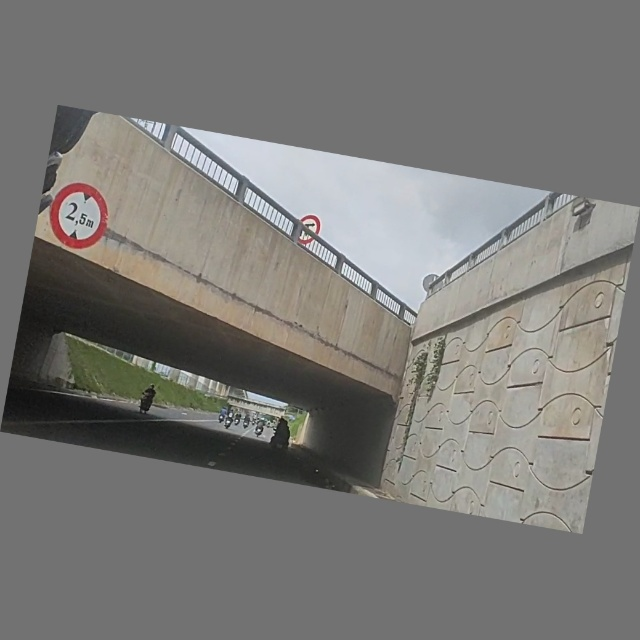P.117*: (44, 176, 116, 258)
P.124d: (293, 211, 327, 248)
